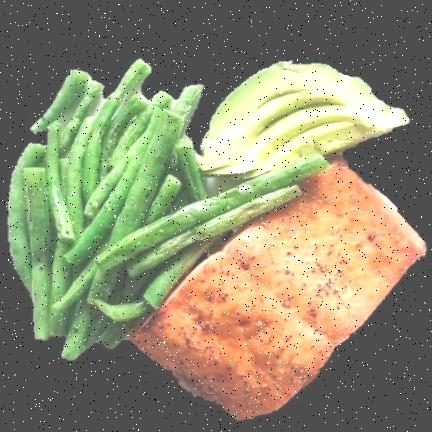fish: (131, 158, 425, 418)
green_beans: (9, 60, 323, 359)
